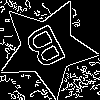B: (22, 23, 73, 79)
